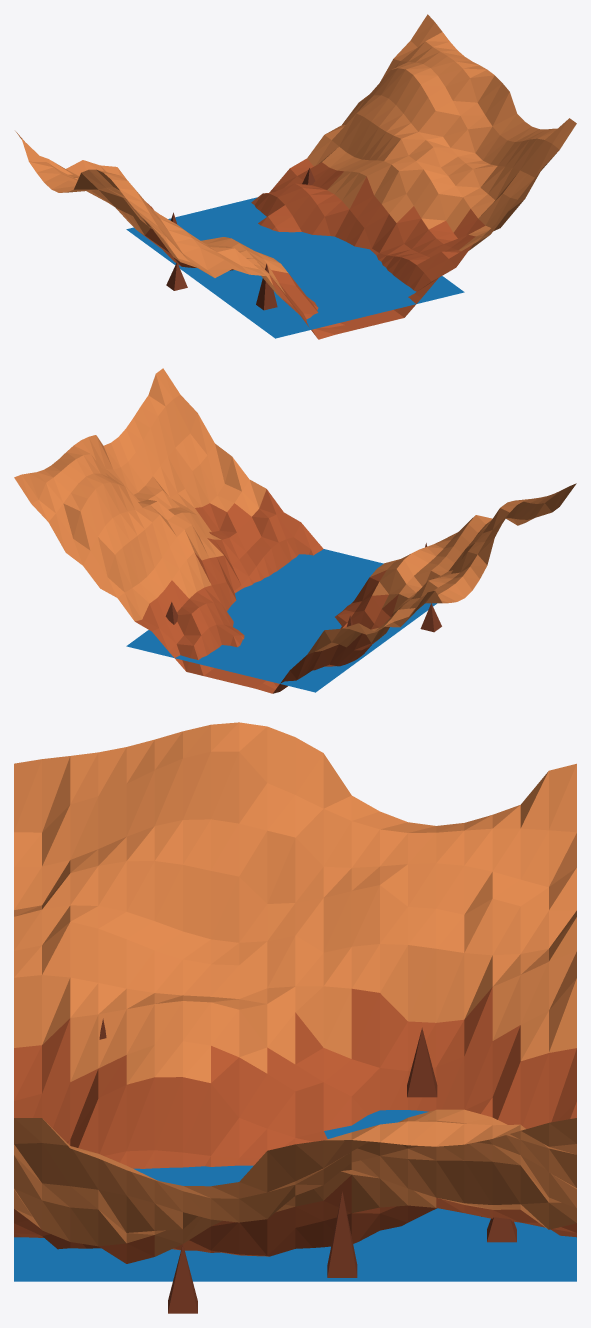
File: terrain_canyon_loop_chunk.obj
The picture shows the model from 3 angles, top to bottom: view 1: azimuth 30°, elevation 25°; view 2: azimuth 150°, elevation 25°; view 3: azimuth 270°, elevation 25°; orthographic projection. The views are drawn at different scales.
Parts seen in each view (by area): view 1: terrain_peaks, terrain_fluid, terrain_ground, terrain_props; view 2: terrain_peaks, terrain_ground, terrain_fluid, terrain_props; view 3: terrain_peaks, terrain_ground, terrain_fluid, terrain_props.
Boxes of the visible parts, x1=… form: terrain_peaks: x1=15, y1=14, x2=576, y2=299; terrain_fluid: x1=126, y1=197, x2=464, y2=338; terrain_ground: x1=139, y1=158, x2=485, y2=339; terrain_props: x1=166, y1=168, x2=315, y2=310; terrain_peaks: x1=14, y1=368, x2=576, y2=654; terrain_ground: x1=135, y1=489, x2=398, y2=693; terrain_fluid: x1=126, y1=549, x2=436, y2=692; terrain_props: x1=165, y1=543, x2=441, y2=632; terrain_peaks: x1=14, y1=722, x2=576, y2=1256; terrain_ground: x1=14, y1=987, x2=576, y2=1263; terrain_fluid: x1=14, y1=1110, x2=576, y2=1281; terrain_props: x1=99, y1=1018, x2=516, y2=1313.
Size of the model in its own units: 96 by 36.6 by 60.
